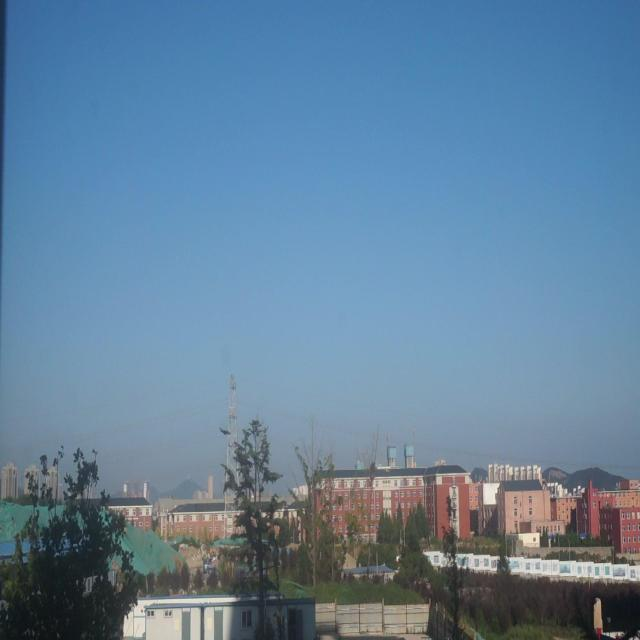UAV: (219, 426, 231, 436)
